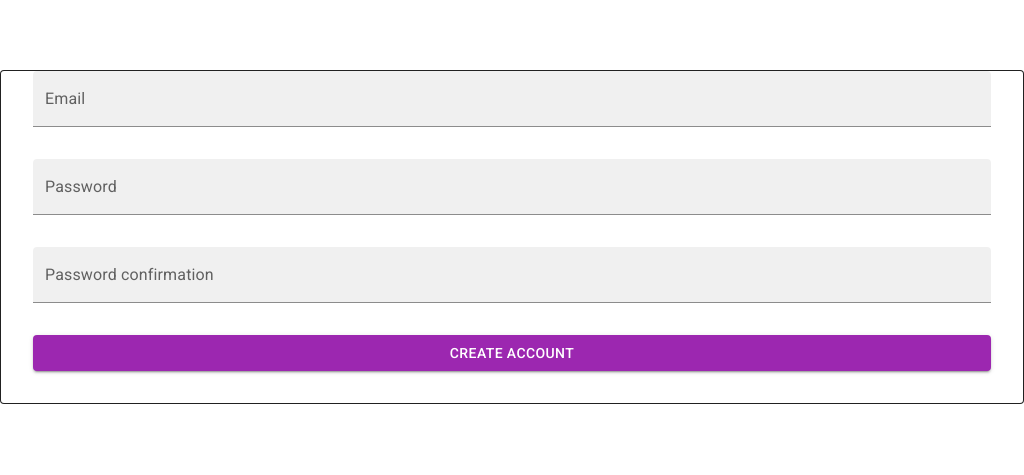
Test: pages/auth/BasicAuthRegister › should not submit the request if the email and/or password are not provided
This screenshot has width=1024, height=475.
What coordinates should you click on to do the following:
click the button "Create account"
I would click on:
 (512, 353)
Its box is [33,335,991,371].
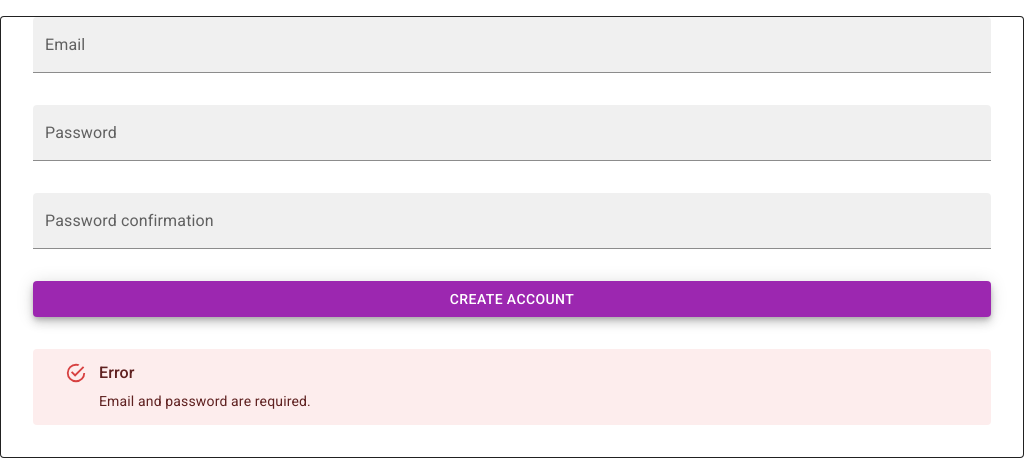
expect the text "Email and password are required." is shown: met, box [99,391,311,411]
